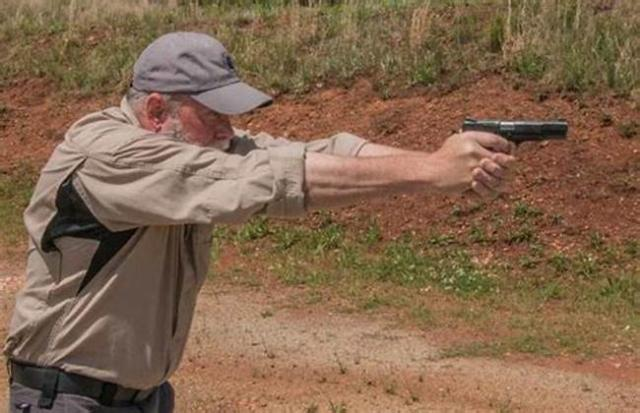handgun: (448, 112, 574, 168)
